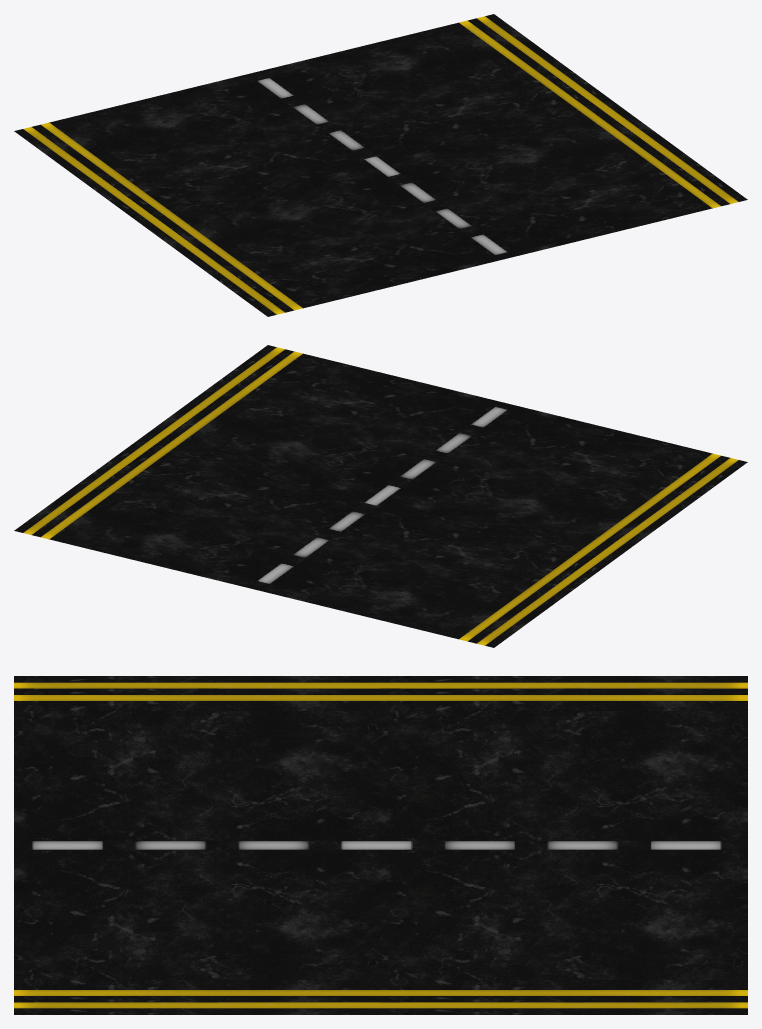
The model's file is RoadLaneVertical.fbx.
The picture shows the model from 3 angles, top to bottom: view 1: azimuth 30°, elevation 25°; view 2: azimuth 150°, elevation 25°; view 3: azimuth 270°, elevation 25°; orthographic projection. The views are drawn at different scales.
Visible parts, largest first — view 1: RoadLaneLeft, RoadLaneRight, DottedLines; view 2: RoadLaneLeft, RoadLaneRight, DottedLines; view 3: RoadLaneLeft, RoadLaneRight, DottedLines.
Boxes of the visible parts, x1,y1,x2,y2 form: RoadLaneLeft: (14, 74, 500, 316); RoadLaneRight: (261, 14, 747, 256); DottedLines: (247, 71, 514, 259); RoadLaneLeft: (261, 405, 747, 647); RoadLaneRight: (14, 345, 500, 587); DottedLines: (247, 402, 514, 590); RoadLaneLeft: (14, 676, 747, 840); RoadLaneRight: (14, 850, 747, 1014); DottedLines: (14, 840, 747, 850).
Size of the model in its own units: 732 by 1.91e-06 by 670.
Materials: 1 (1 with a texture image).
